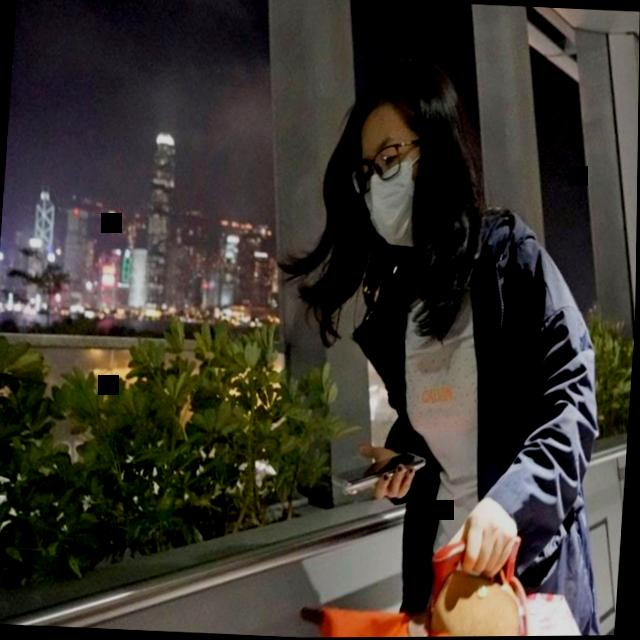Mask: (346, 111, 430, 252)
